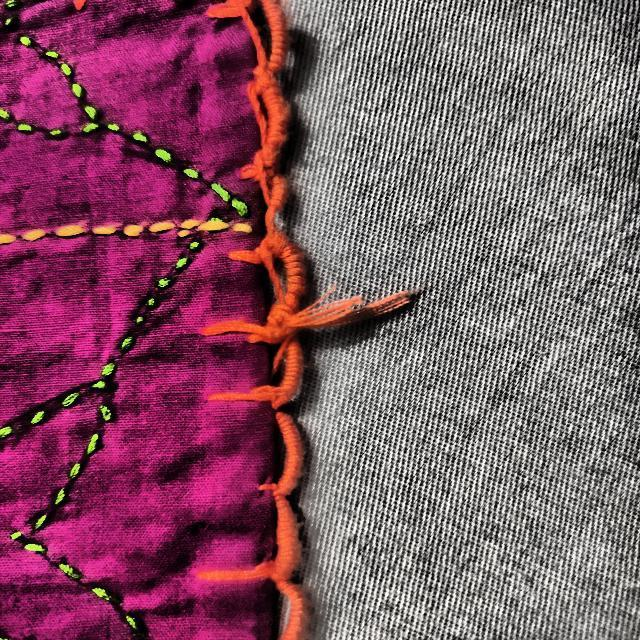gray stitch: (261, 224, 434, 402)
